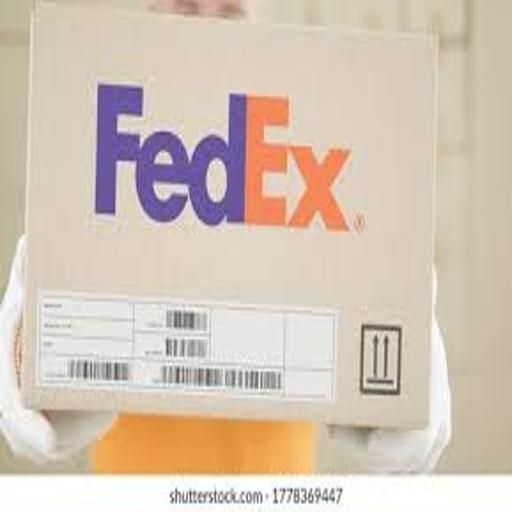FedEx: (28, 2, 434, 429)
